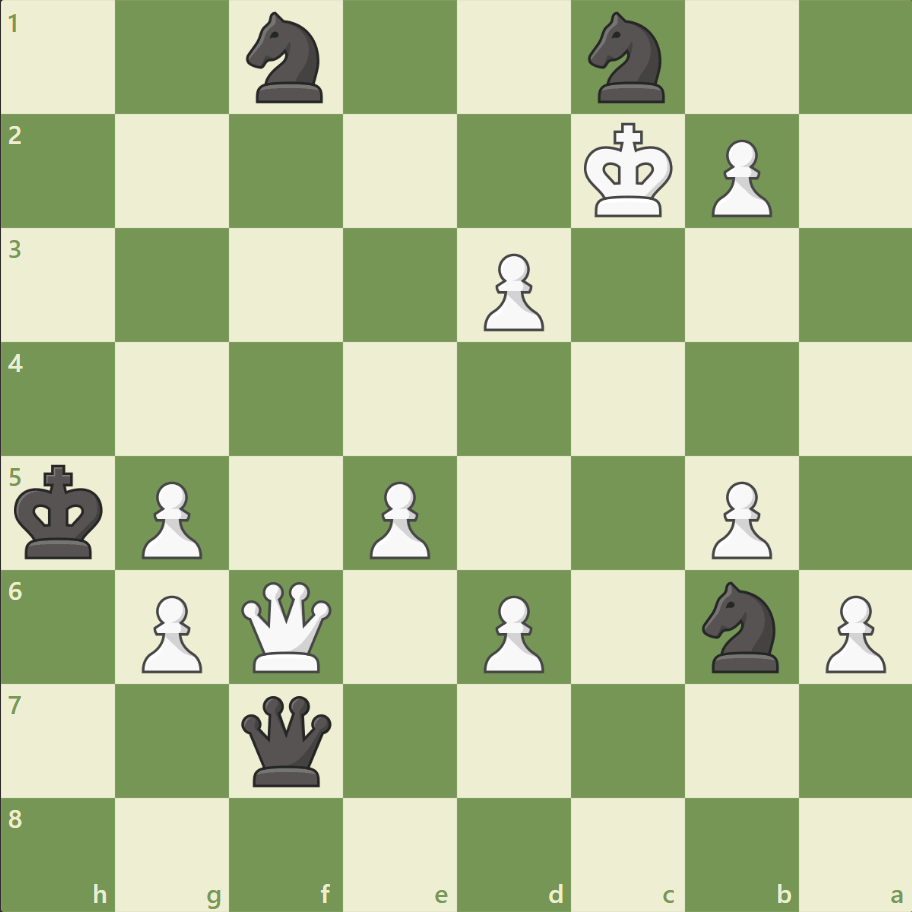K: (579, 117, 679, 225)
P: (474, 586, 549, 677), (133, 586, 208, 677), (701, 473, 776, 564), (133, 473, 208, 564), (474, 246, 549, 337), (701, 132, 776, 223), (815, 586, 889, 677), (361, 473, 435, 564)
Q: (237, 576, 336, 676)
k: (11, 458, 111, 566)
n: (579, 7, 676, 110), (238, 7, 335, 110), (692, 575, 789, 677)
q: (237, 690, 336, 789)
